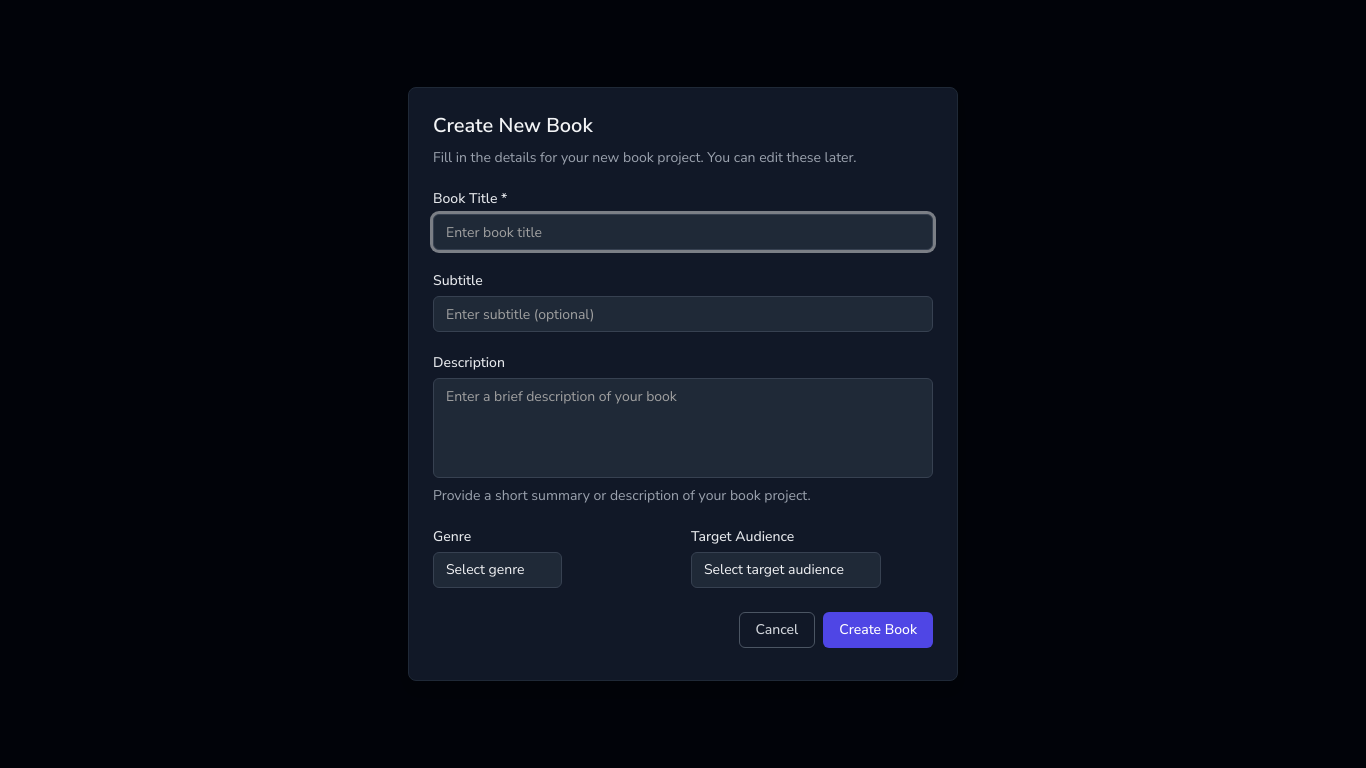
Test: BookCreationWizard › Rendering Tests › displays validation messages correctly
// Try to submit empty form
Step 1. Click the button "Create Book" → coordinates (878, 630), box x1=823 y1=612 x2=933 y2=648
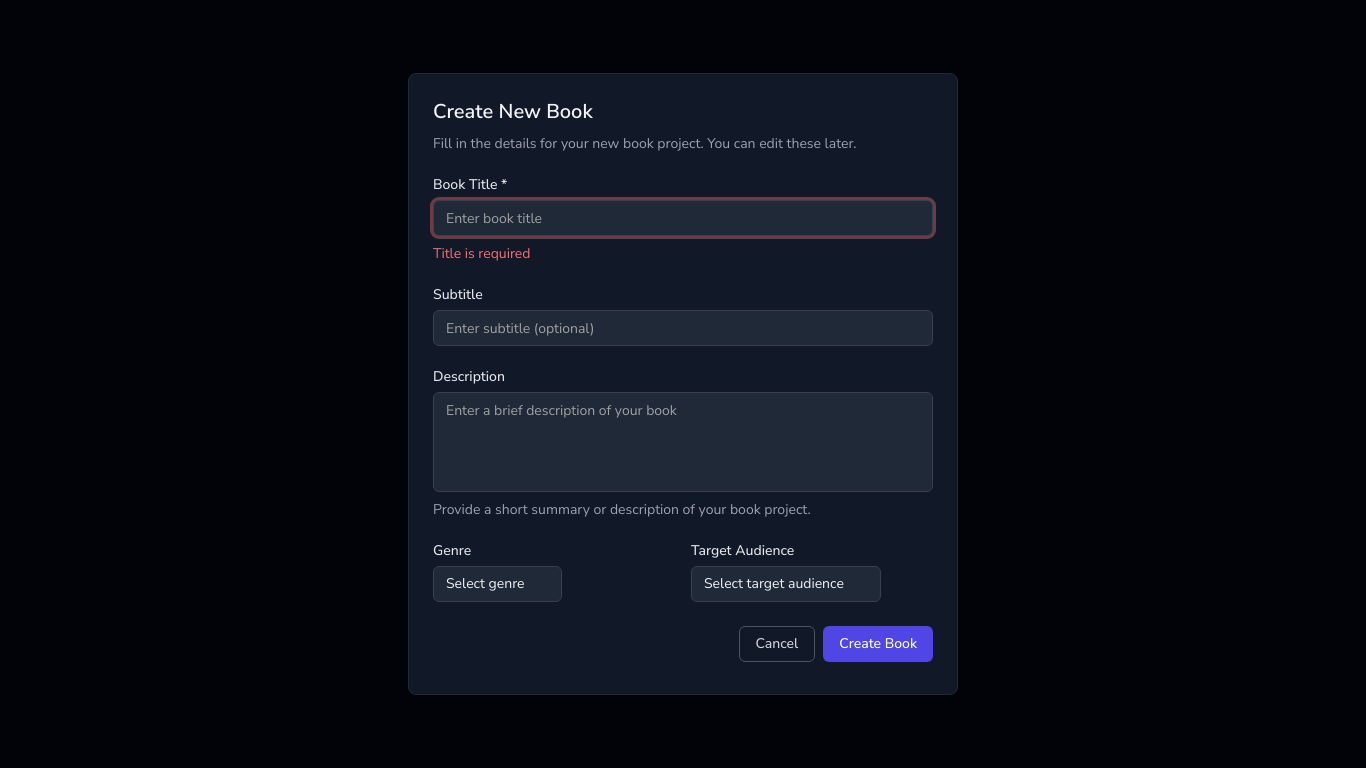
Result: the text "Title is required" is shown at x1=433 y1=244 x2=530 y2=263
